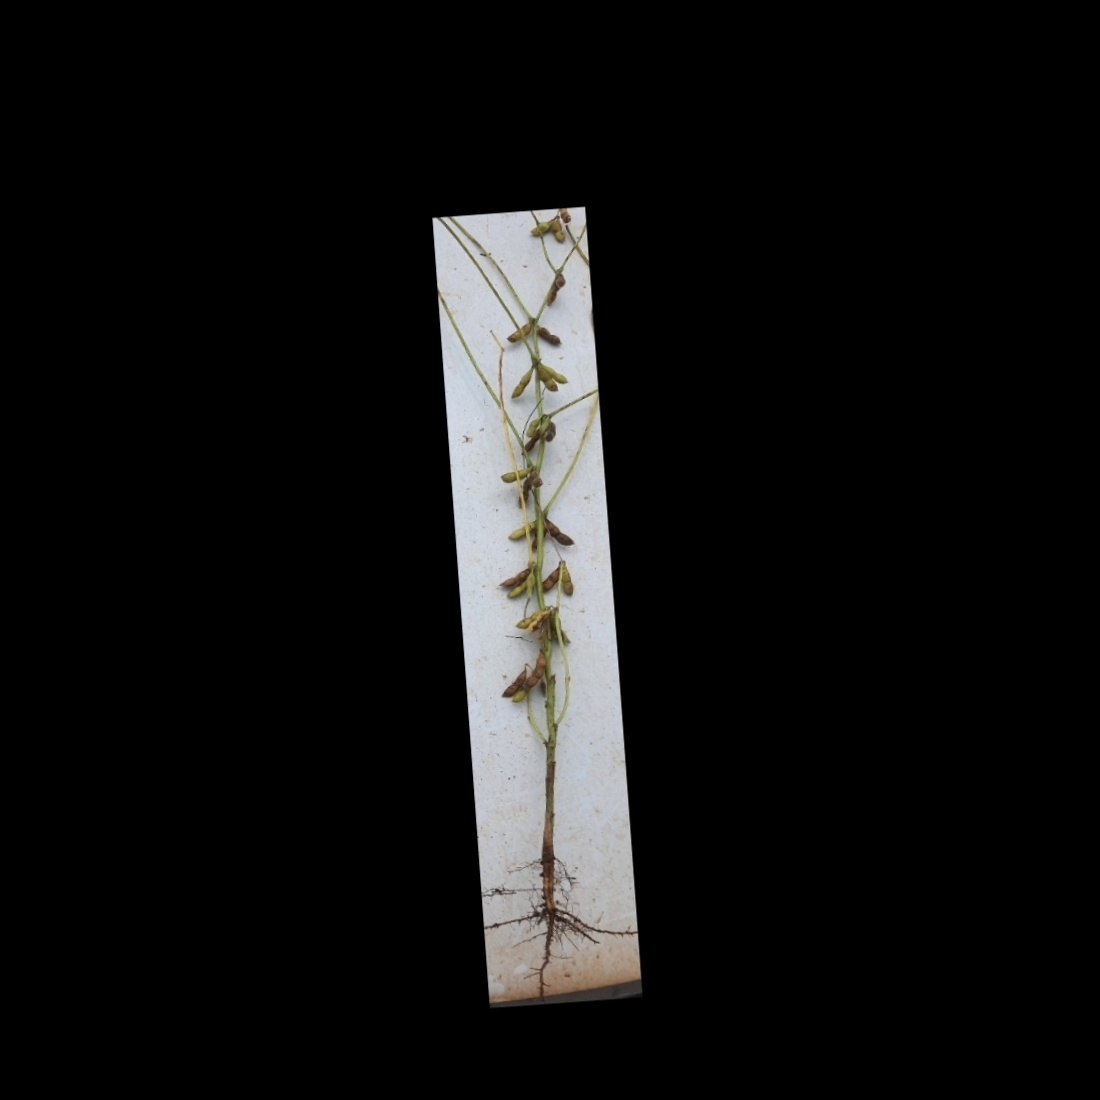pod: (524, 645, 549, 689), (544, 517, 577, 549), (506, 368, 535, 403), (505, 517, 538, 543), (501, 320, 536, 345), (539, 564, 565, 594), (534, 323, 564, 349), (496, 464, 529, 485), (560, 563, 577, 597), (550, 218, 568, 246)
soy: (445, 208, 634, 954)
